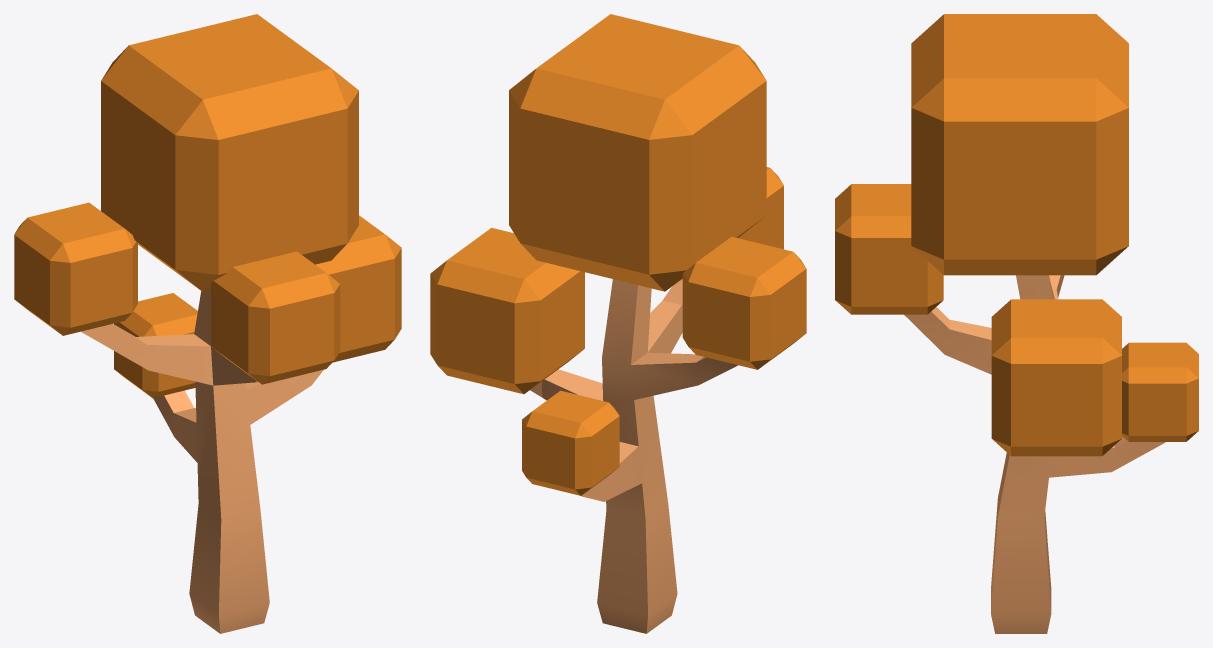
Rendered from tree_detailed_fall.fbx.
3 renders of one model, left to right at view 1: azimuth 30°, elevation 25°; view 2: azimuth 150°, elevation 25°; view 3: azimuth 270°, elevation 25°, orthographic. The views are drawn at different scales.
Visible parts, largest first — view 1: tree_detailed_fall; view 2: tree_detailed_fall; view 3: tree_detailed_fall.
Boxes of the visible parts, x1=… form: tree_detailed_fall: x1=14, y1=14, x2=401, y2=633; tree_detailed_fall: x1=430, y1=14, x2=806, y2=633; tree_detailed_fall: x1=835, y1=14, x2=1198, y2=633.
Bounding box in the file's own units: 8.47 × 13.32 × 7.62.
